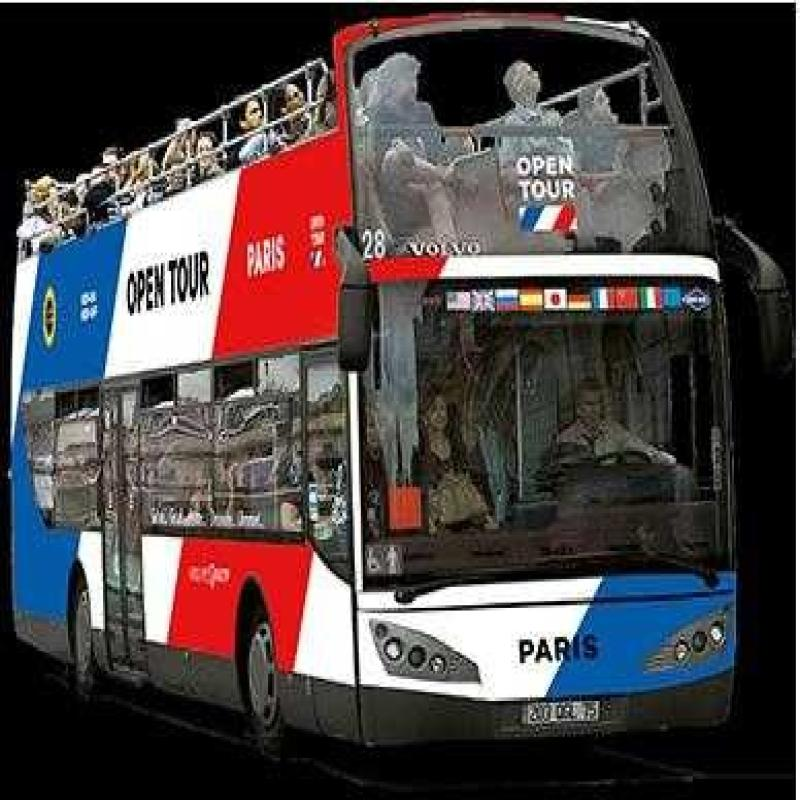bus: (14, 61, 729, 766)
